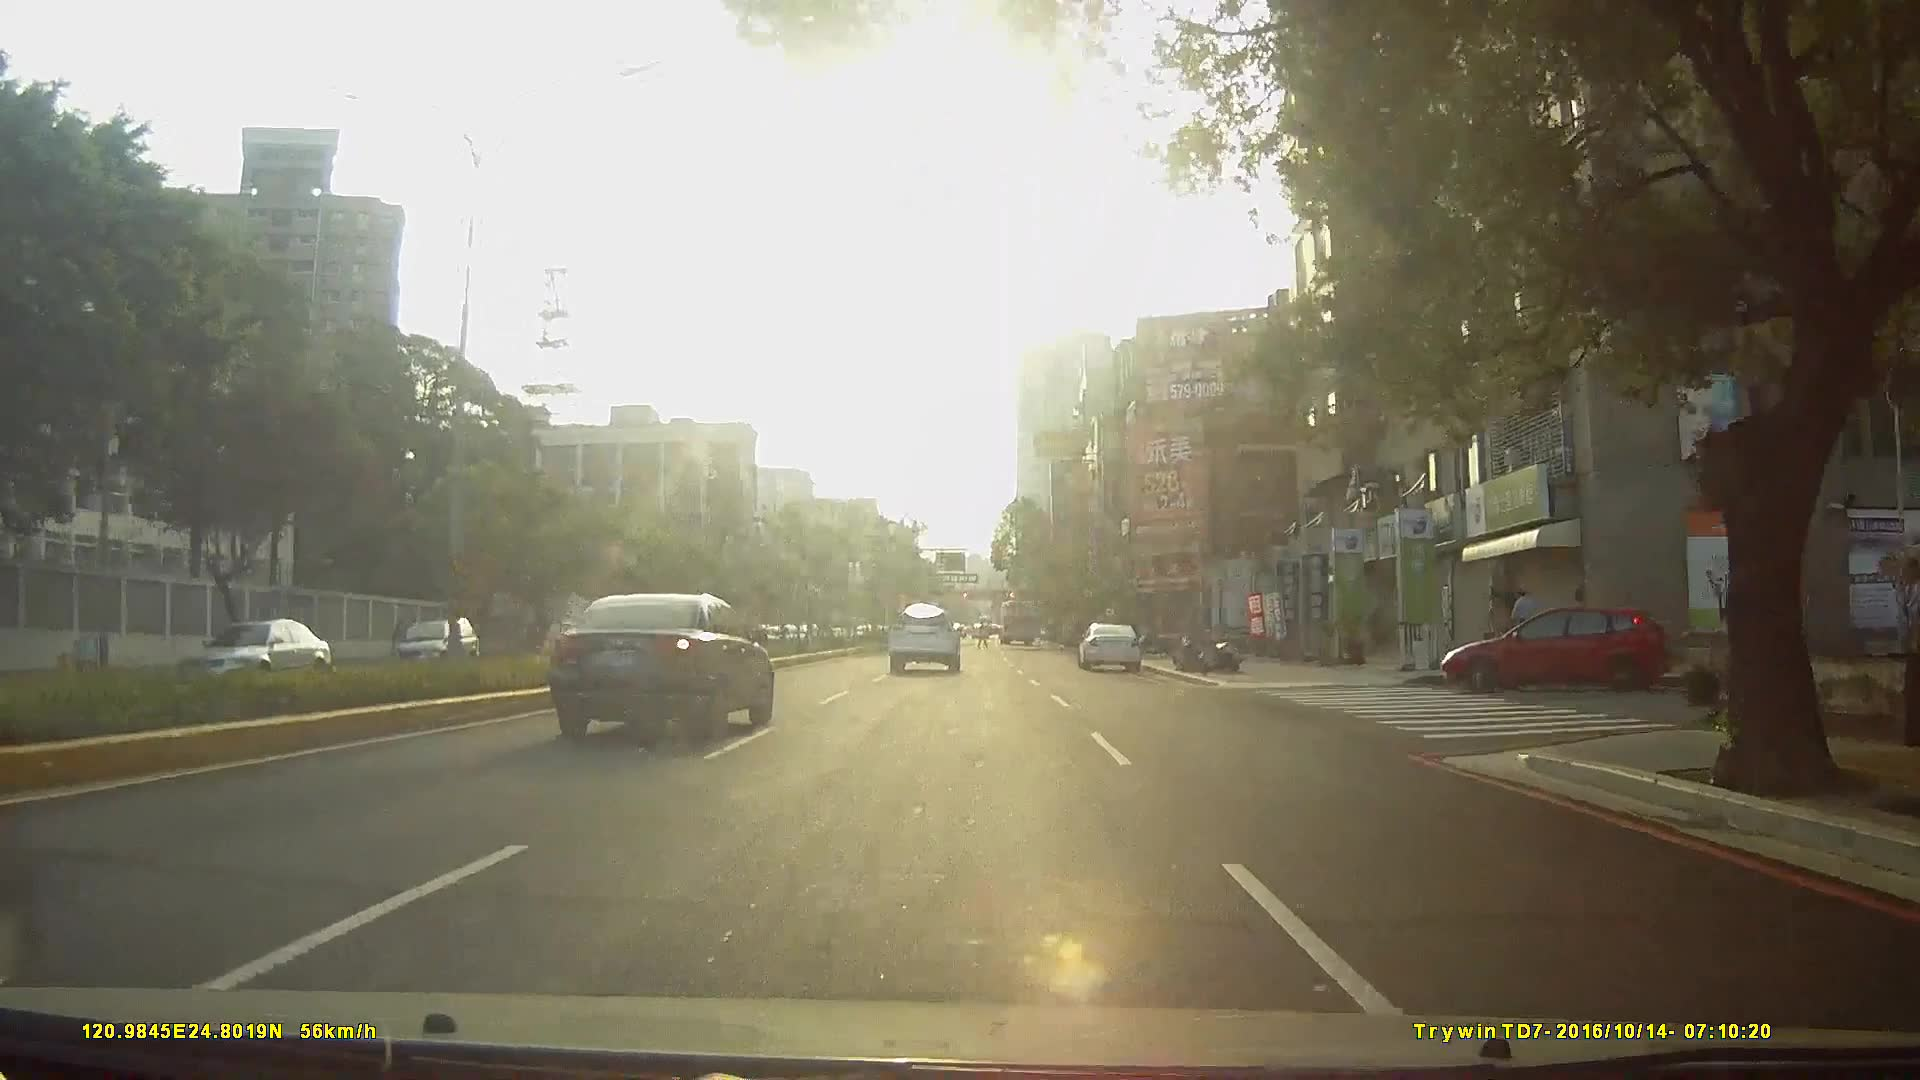pedestrian: (1516, 589, 1543, 661)
vehicle: (555, 591, 777, 742), (1433, 606, 1682, 708), (171, 616, 335, 696), (385, 610, 489, 671), (886, 605, 962, 676), (1075, 621, 1144, 672), (995, 599, 1039, 647)
